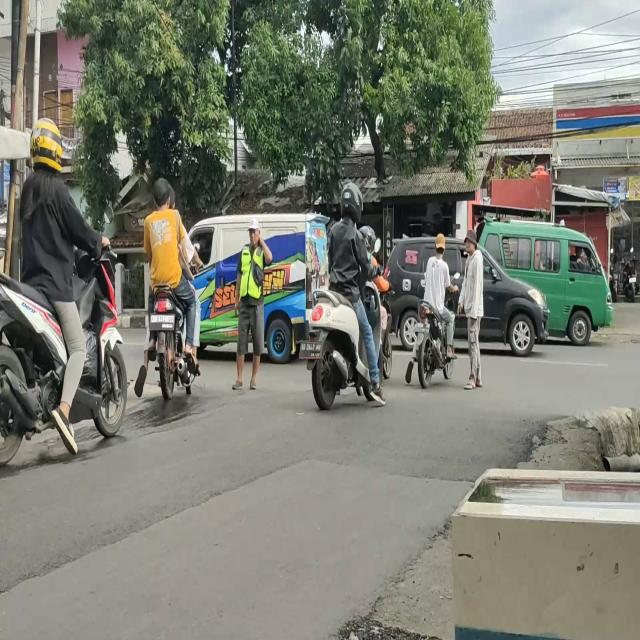helmet: (32, 119, 64, 175), (342, 183, 362, 217), (362, 225, 376, 253)
no-helmet: (154, 179, 171, 208), (435, 234, 445, 255), (168, 184, 175, 210)
